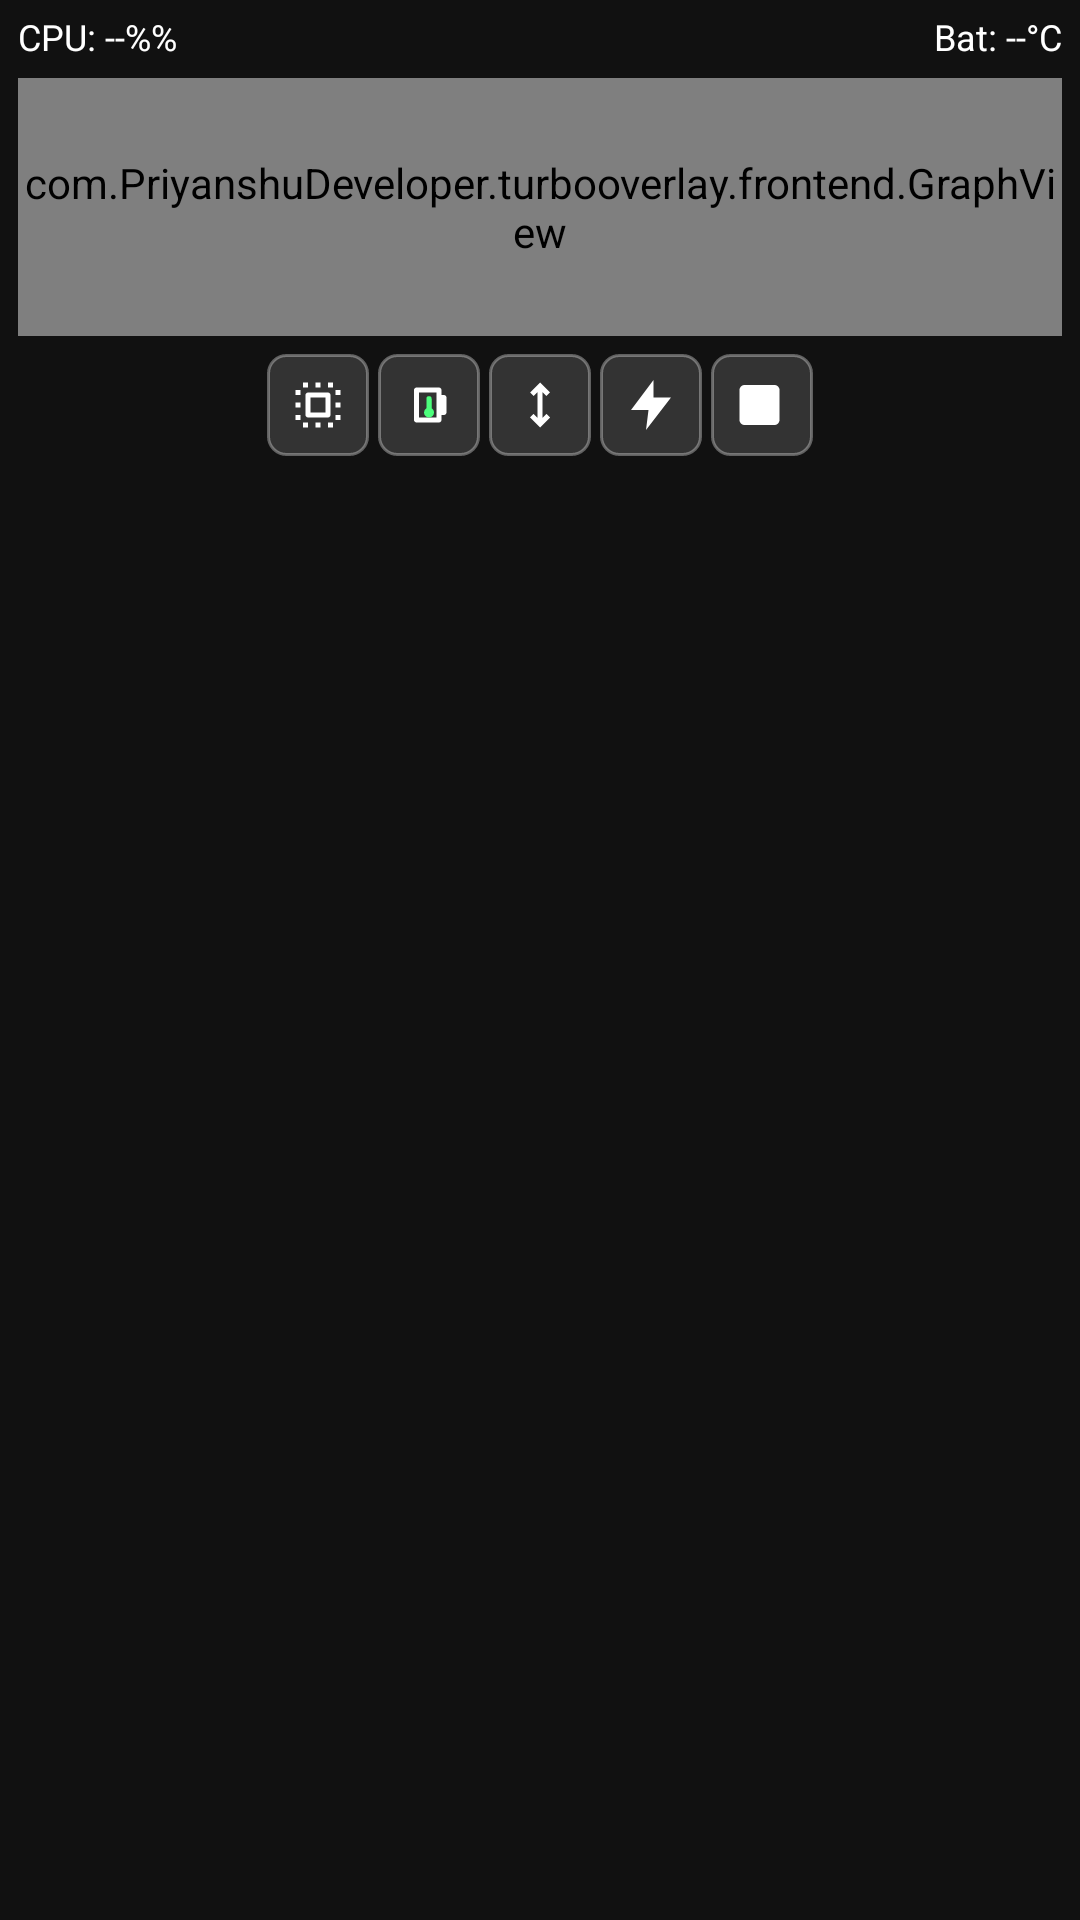

Screen size 1080px×1920px. Icon name, then its box in pixels as (x1, y1, x2, y2):
Performance controls: (600, 354, 702, 456)
